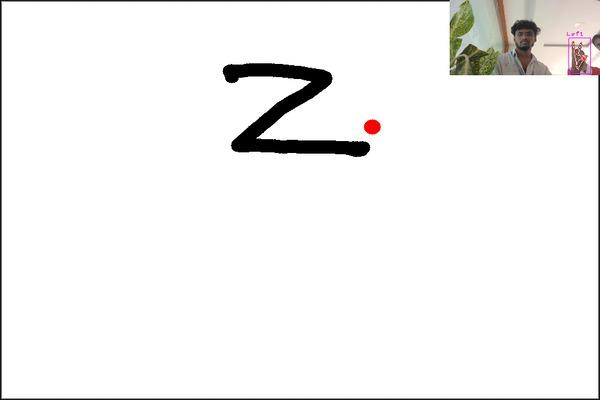Z: (214, 52, 361, 157)
